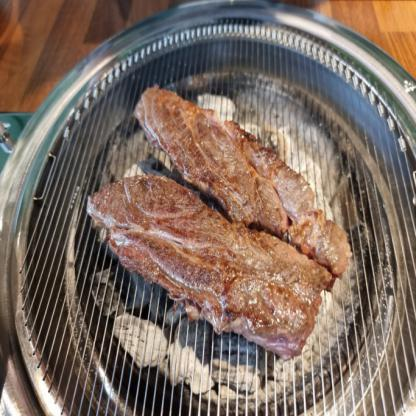Carne: (78, 160, 325, 356), (121, 75, 350, 273)
